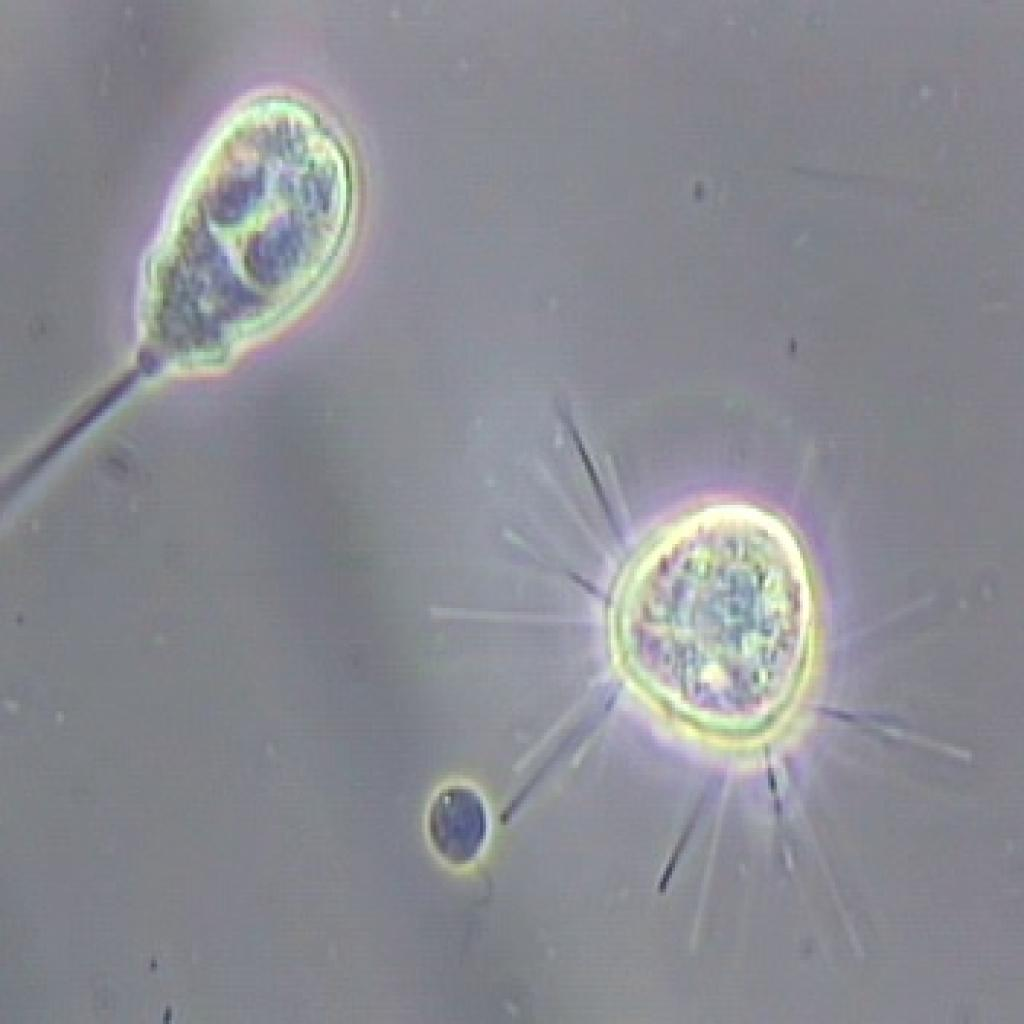Flagellates: (409, 775, 528, 999)
